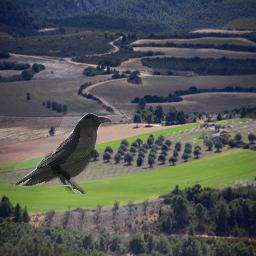Crow: (14, 113, 112, 194)
